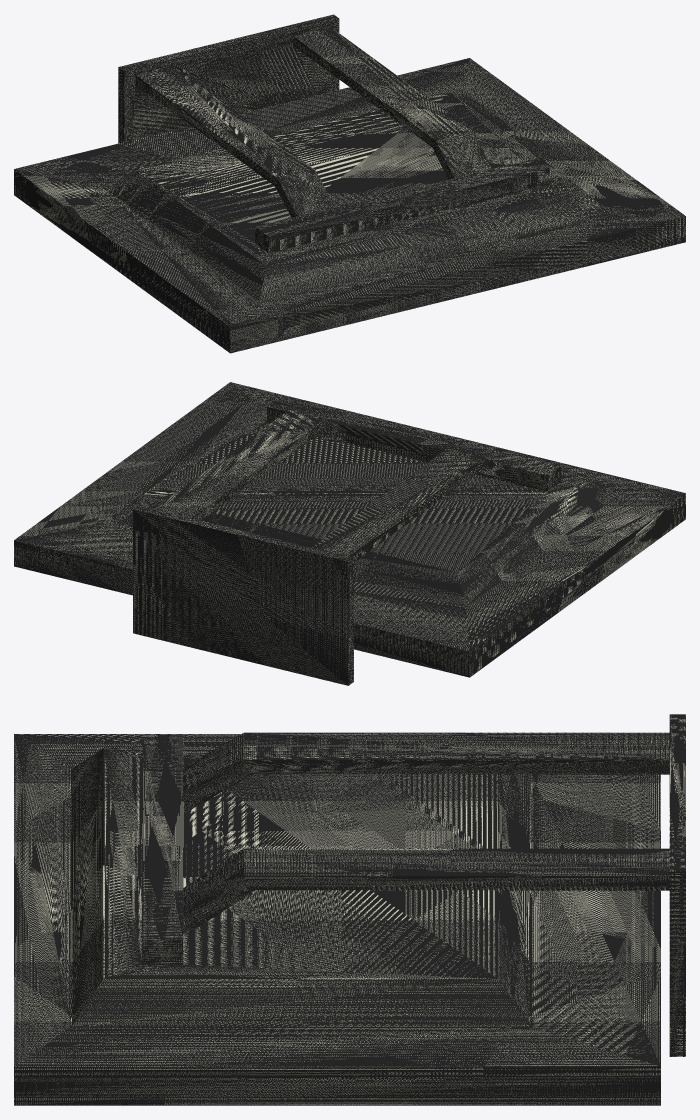
3 renders of one model, top to bottom at view 1: azimuth 30°, elevation 25°; view 2: azimuth 150°, elevation 25°; view 3: azimuth 270°, elevation 25°, orthographic. The views are drawn at different scales.
Parts seen in each view (by area): view 1: dell lcd monitor; view 2: dell lcd monitor; view 3: dell lcd monitor.
Part boxes in pixels (bbox=[...]): dell lcd monitor: bbox=[14, 14, 685, 353]; dell lcd monitor: bbox=[14, 382, 685, 685]; dell lcd monitor: bbox=[14, 714, 685, 1105].
Bounding box in the file's own units: 146 × 38 × 125.
